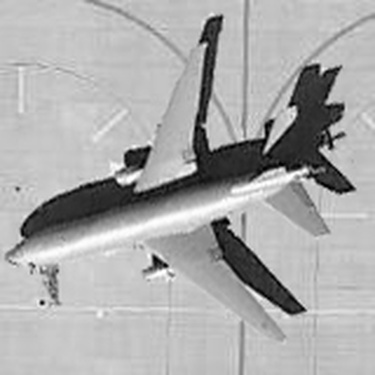airplane: (1, 25, 346, 356)
